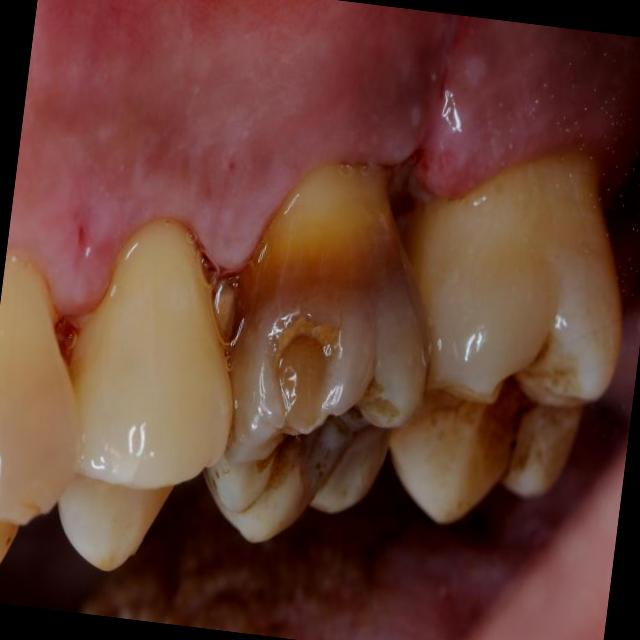caries: (202, 146, 443, 562), (394, 141, 640, 548)
